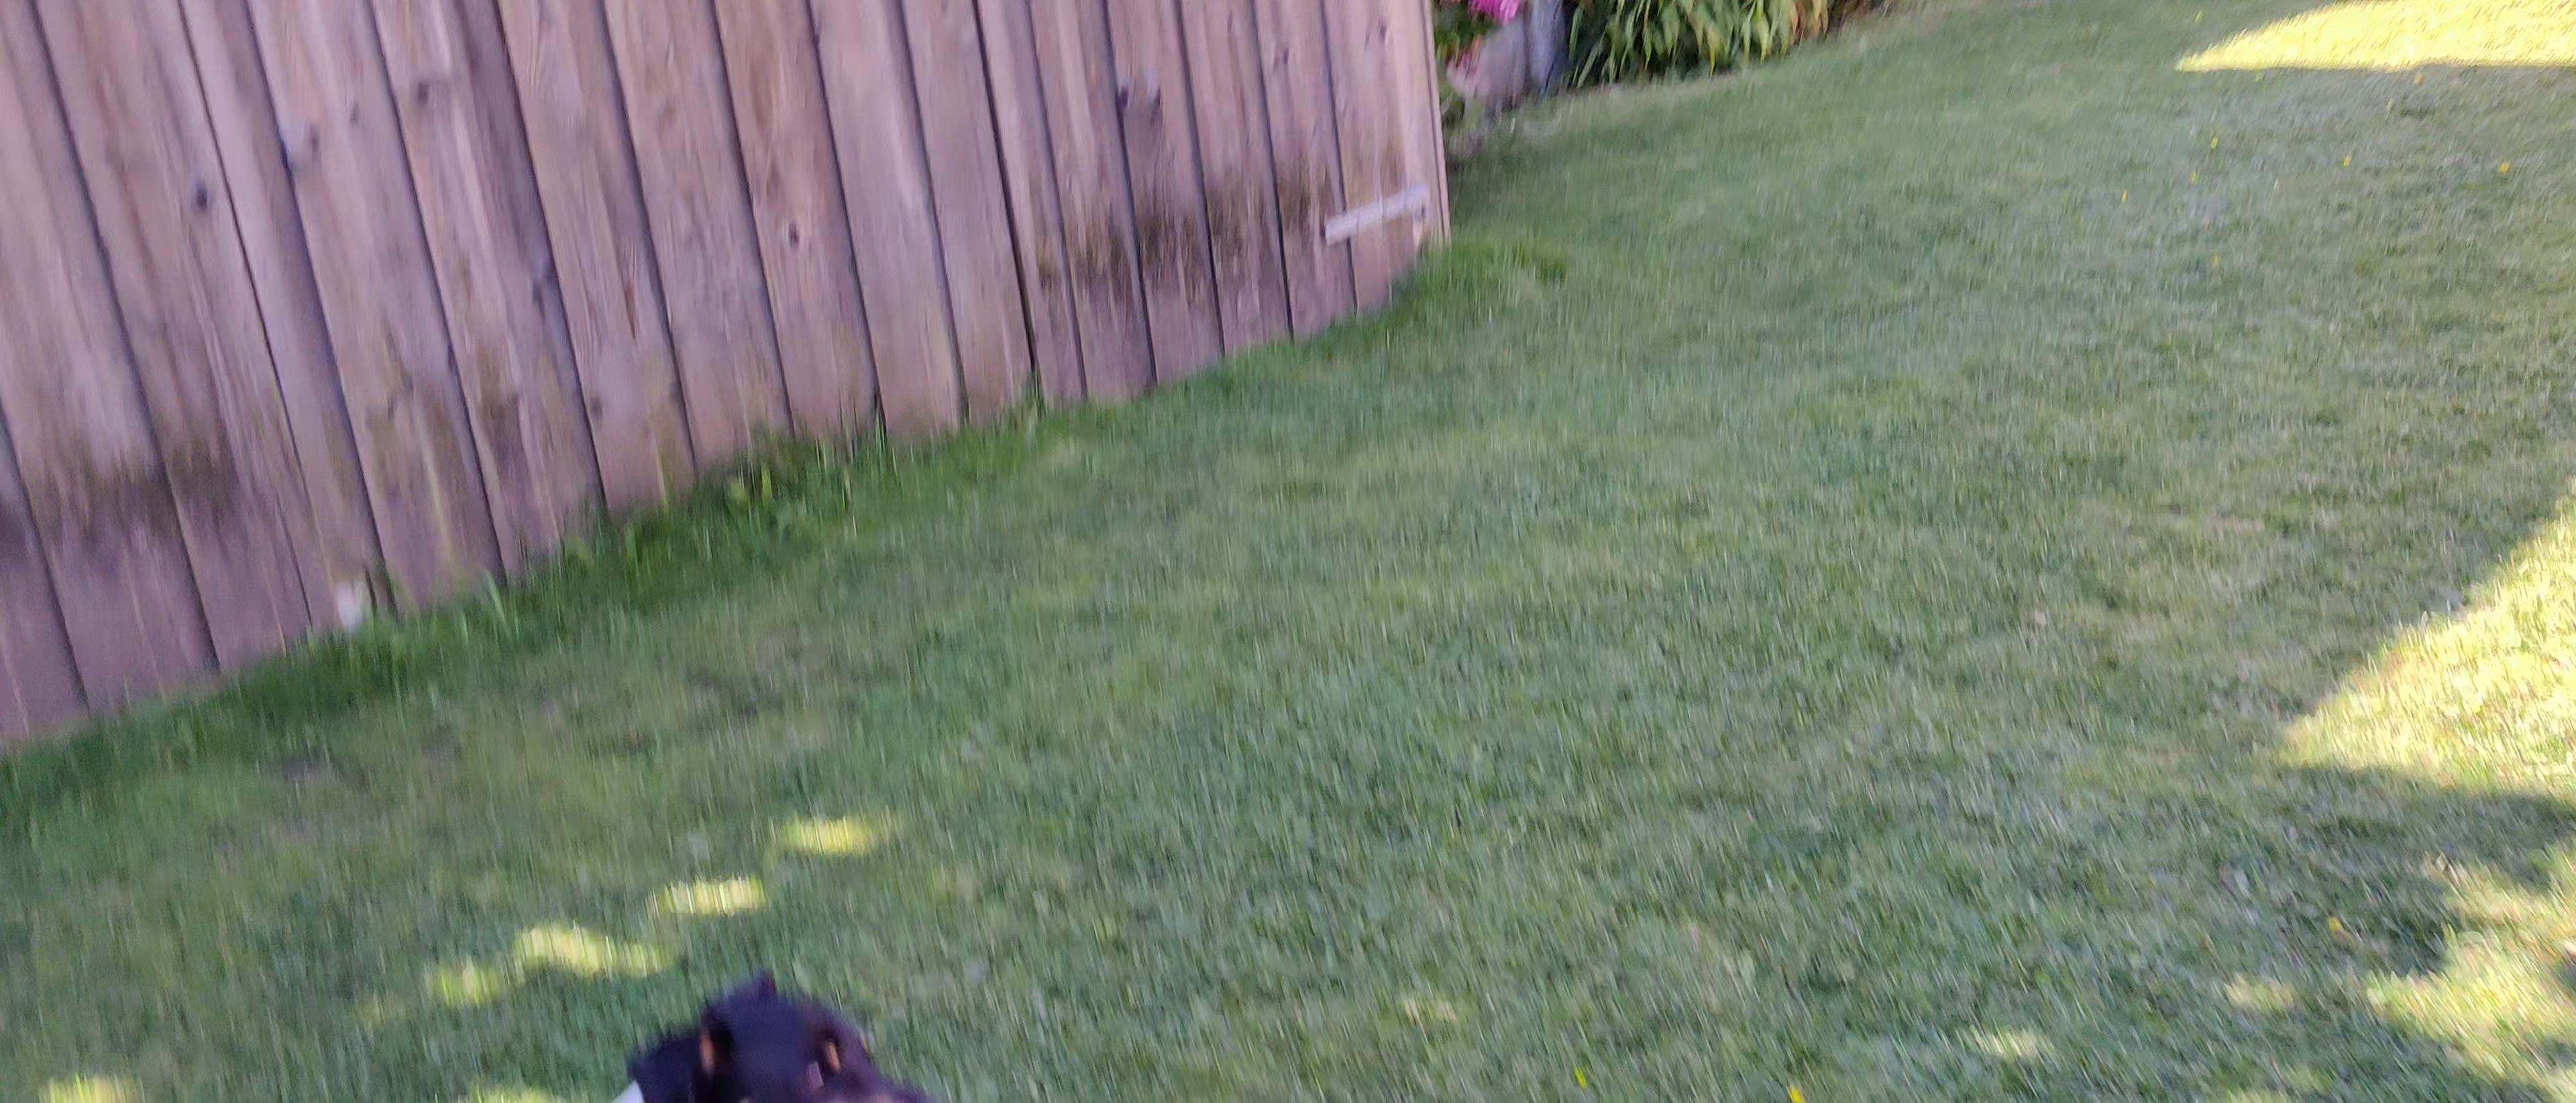Dog: (573, 965, 966, 1103)
